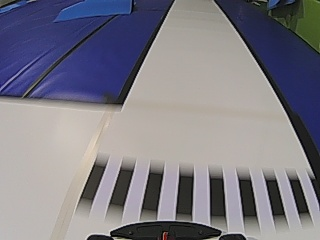CrossWalk: (82, 162, 303, 217)
